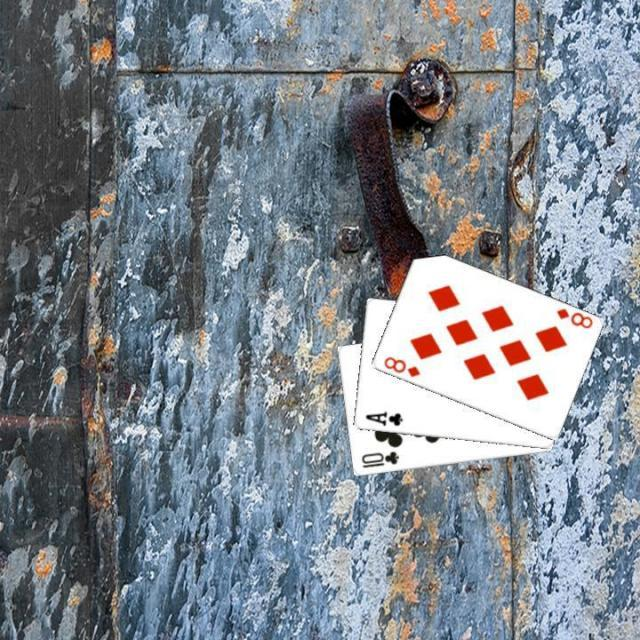10C: (358, 448, 400, 470)
8D: (380, 352, 422, 380), (552, 304, 594, 331)
AC: (362, 408, 404, 428)
